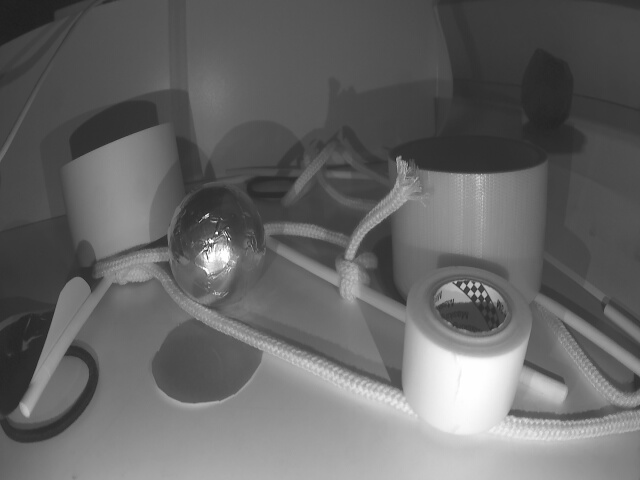Live: (171, 183, 267, 306)
